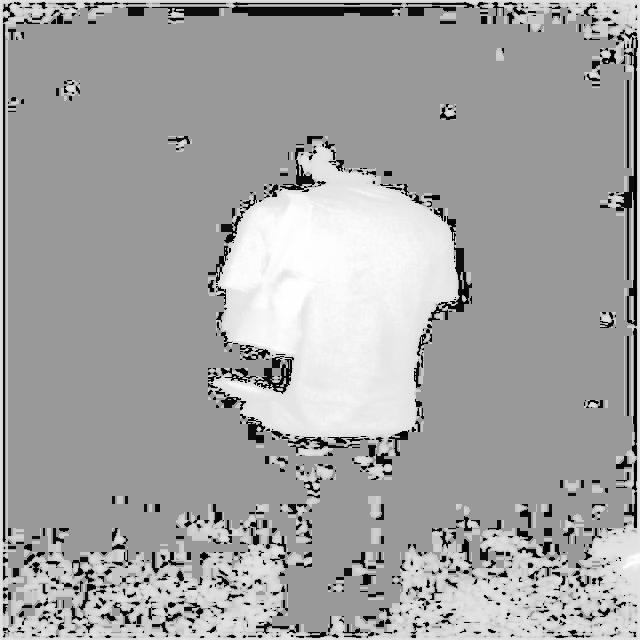Person: (209, 111, 470, 640)
